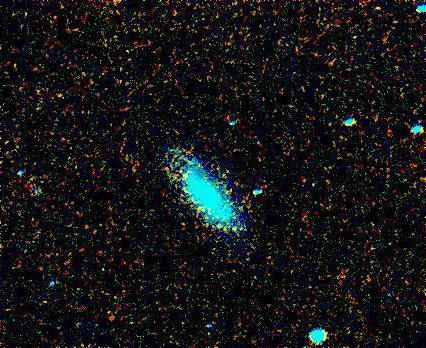star: (172, 161, 202, 191)
